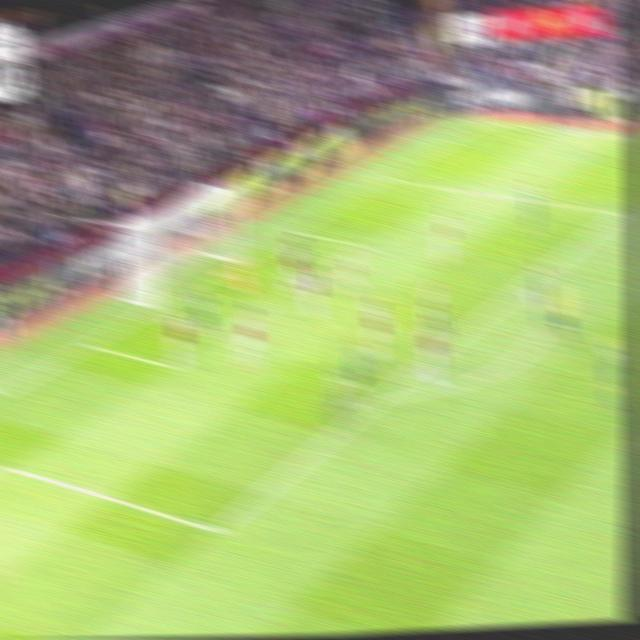bigarea_bottom_inner: (203, 514, 229, 546)
bigarea_top_inner: (610, 204, 629, 222)
bigarea_top_outter: (376, 171, 392, 184)
bottom_arc_area_intersection: (370, 389, 390, 409)
corner: (473, 117, 491, 128)
smallarea_bottom_inner: (163, 354, 184, 374)
smallarea_bottom_outter: (79, 333, 101, 353)
smallarea_top_inner: (354, 237, 372, 252)
smallarea_top_outter: (284, 223, 303, 237)
top_arc_area_intersection: (513, 278, 532, 295)
